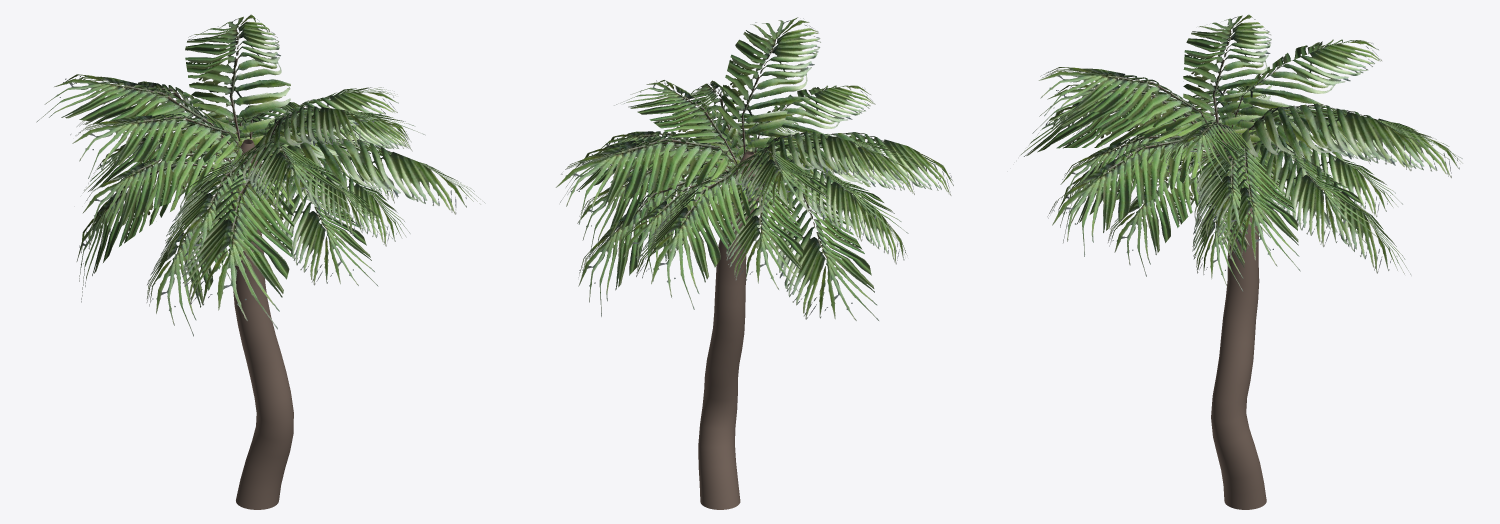
The model's file is palm.fbx.
3 renders of one model, left to right at view 1: azimuth 30°, elevation 25°; view 2: azimuth 150°, elevation 25°; view 3: azimuth 270°, elevation 25°, orthographic. The views are drawn at different scales.
Visible parts, largest first — view 1: tree.003; view 2: tree.003; view 3: tree.003.
Boxes of the visible parts, bbox=[...] form: tree.003: bbox=[36, 14, 485, 509]; tree.003: bbox=[555, 17, 953, 509]; tree.003: bbox=[1020, 14, 1462, 509].
Size of the model in its own units: 1882 by 2125 by 2160.
